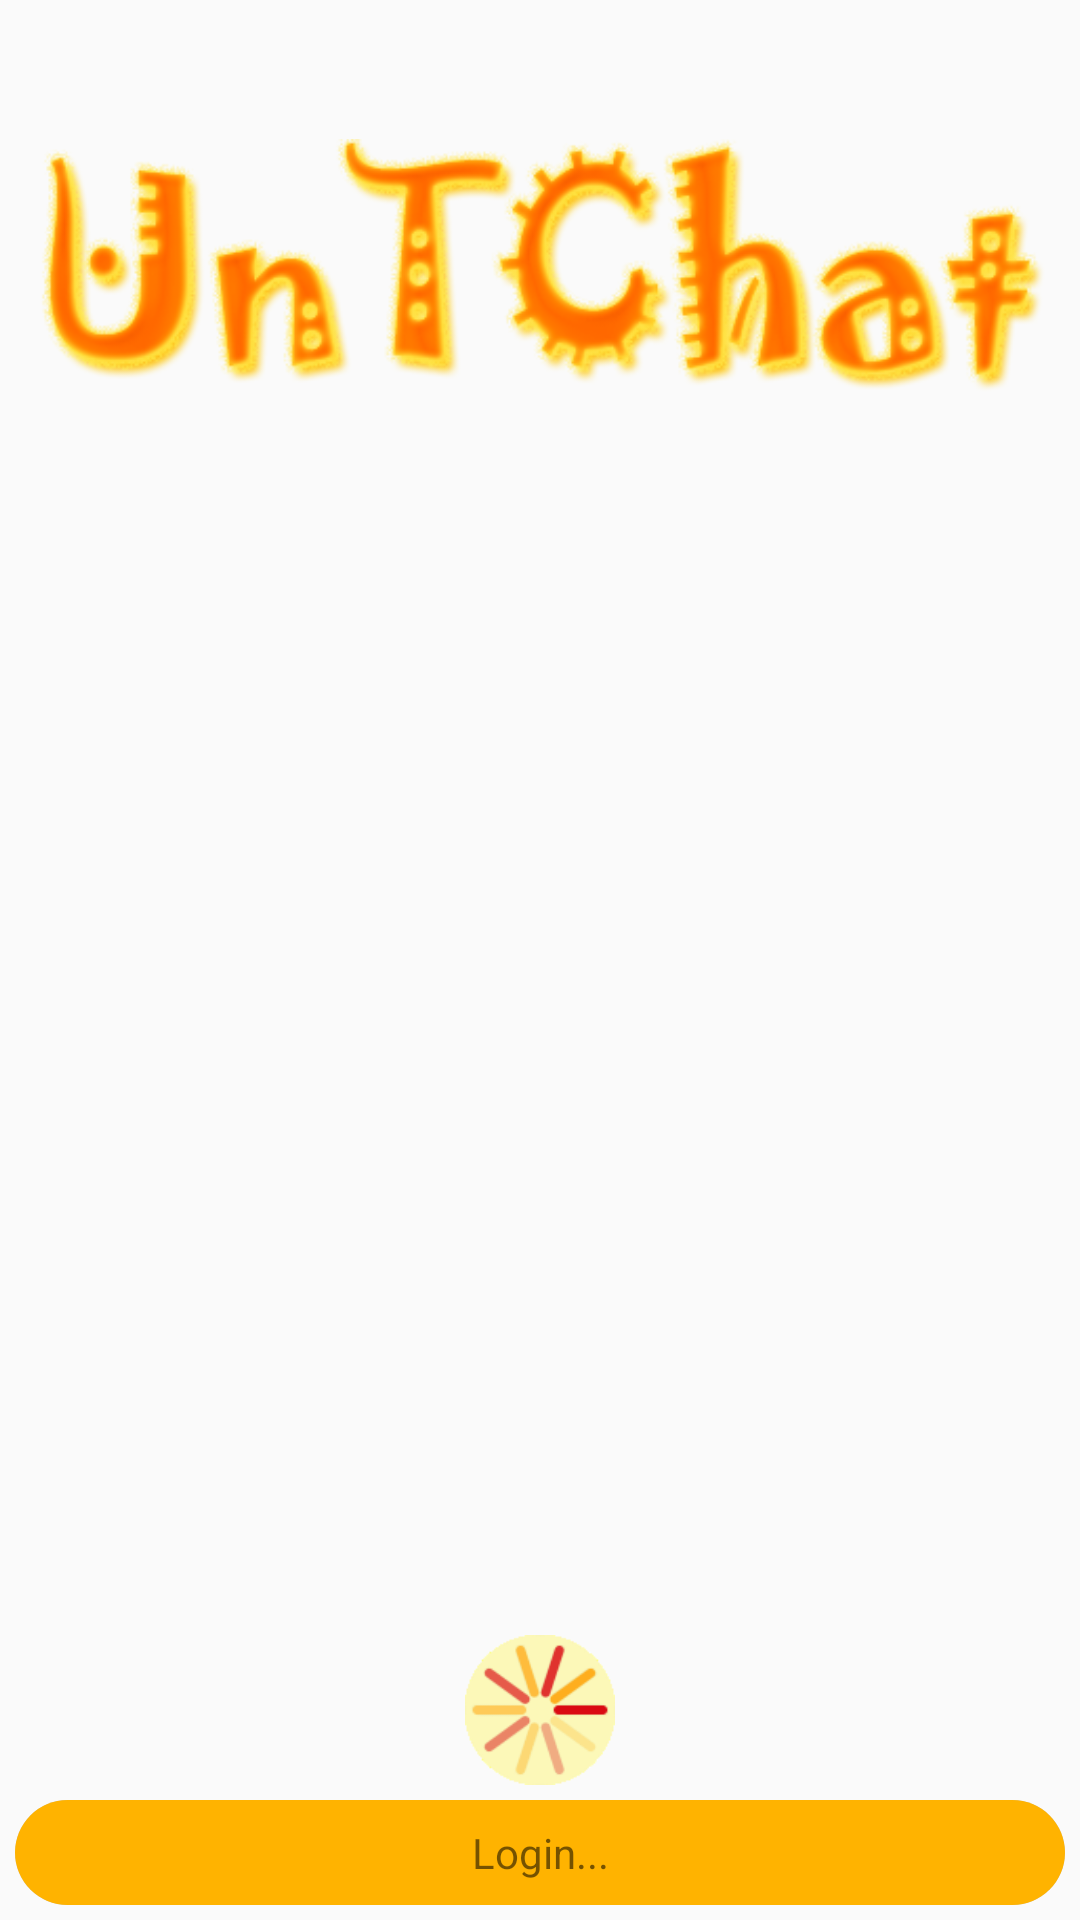

Screen size 1080 x 1920. Icon name, then its center in pixels as (x,y):
loadd: (540,1710)
